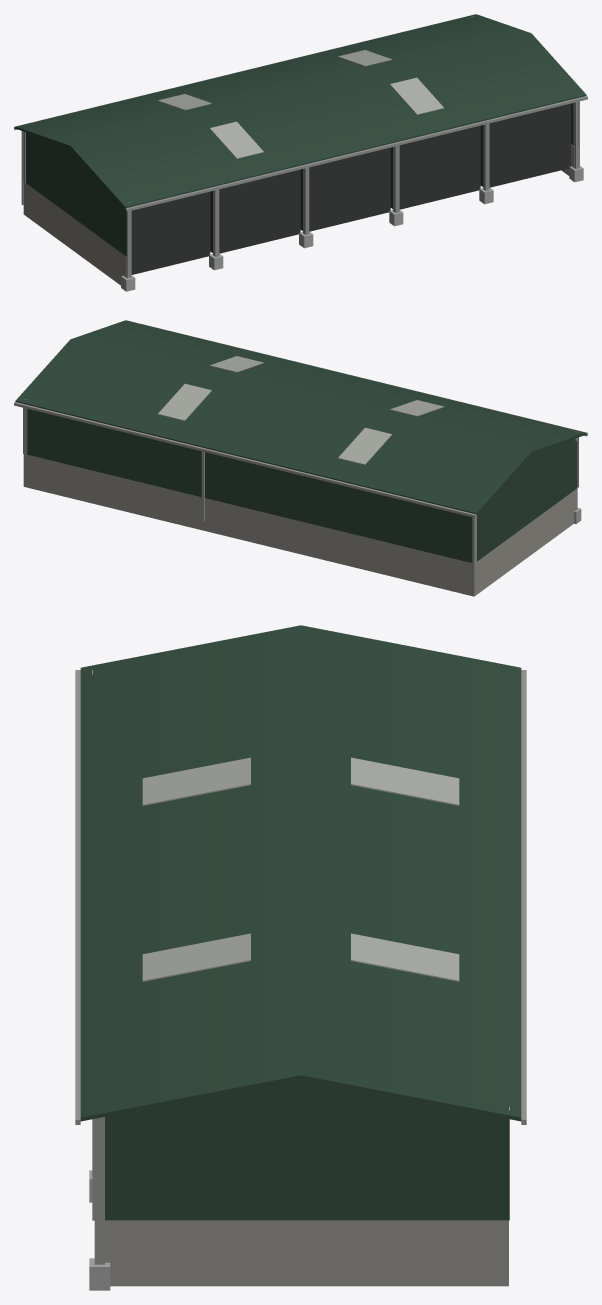
The model's file is context.farm.open_implement.glb.
The picture shows the model from 3 angles, top to bottom: view 1: azimuth 30°, elevation 25°; view 2: azimuth 150°, elevation 25°; view 3: azimuth 270°, elevation 25°; orthographic projection. The views are drawn at different scales.
Visible parts, largest first — view 1: main__clad_354, main__paint_333, main__steel_999, main__concrete_999, main__lens_aaa, main__concrete_aaa; view 2: main__clad_354, main__concrete_999, main__steel_999, main__lens_aaa; view 3: main__clad_354, main__concrete_999, main__lens_aaa, main__steel_999.
Part boxes in pixels (bbox=[...]): main__clad_354: bbox=[15, 14, 586, 256]; main__paint_333: bbox=[131, 103, 570, 274]; main__steel_999: bbox=[14, 14, 587, 278]; main__concrete_999: bbox=[23, 144, 574, 285]; main__lens_aaa: bbox=[157, 50, 443, 158]; main__concrete_aaa: bbox=[121, 166, 583, 291]; main__clad_354: bbox=[15, 320, 586, 562]; main__concrete_999: bbox=[23, 454, 576, 596]; main__steel_999: bbox=[14, 320, 587, 587]; main__lens_aaa: bbox=[157, 356, 443, 464]; main__clad_354: bbox=[80, 625, 521, 1220]; main__concrete_999: bbox=[105, 1220, 508, 1286]; main__lens_aaa: bbox=[142, 757, 459, 981]; main__steel_999: bbox=[75, 670, 526, 1264].
Size of the model in its own units: 30.7 by 6.88 by 13.02.
